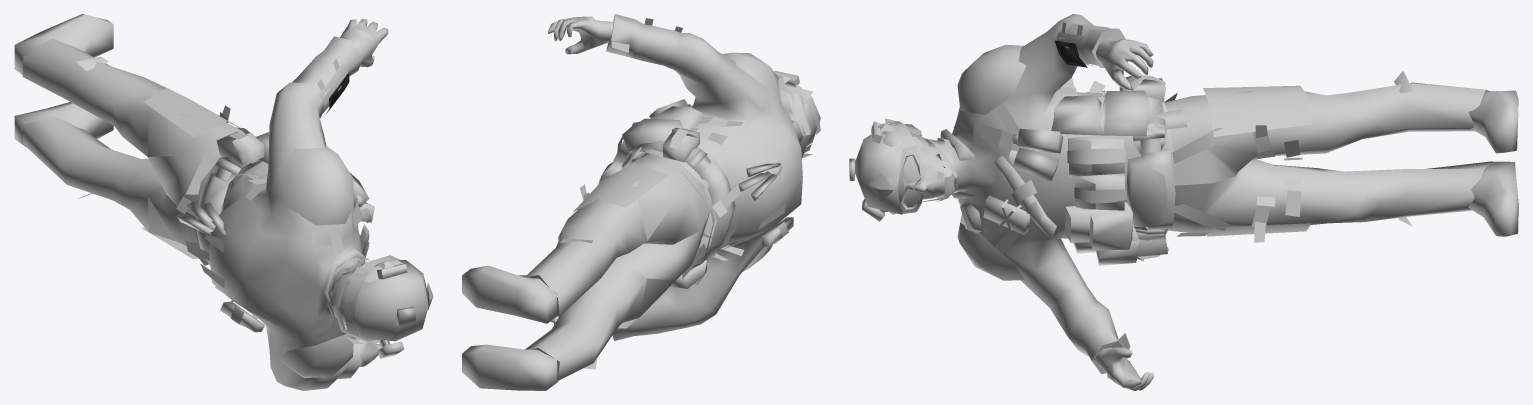
File: c_mul_mp_pmc_lmg_fb_LOD2.obj
The picture shows the model from 3 angles, left to right: view 1: azimuth 30°, elevation 25°; view 2: azimuth 150°, elevation 25°; view 3: azimuth 270°, elevation 25°; orthographic projection. The views are drawn at different scales.
Parts seen in each view (by area): view 1: mtl_c_mul_mp_pmc_upperbody1, mtl_c_mul_mp_pmc_lbr_2_1, mtl_c_mul_mp_pmc_gear_main_1, mtl_c_mul_mp_pmc_lmg_gear, mtl_c_mul_mp_pmc_helmet1, mtl_c_mul_mp_pmc_gloves3; view 2: mtl_c_mul_mp_pmc_upperbody1, mtl_c_mul_mp_pmc_lbr_2_1, mtl_c_mul_mp_pmc_gear_main_1, mtl_c_mul_mp_pmc_lmg_gear, mtl_c_mul_mp_pmc_helmet1, mtl_c_mul_mp_pmc_gloves3; view 3: mtl_c_mul_mp_pmc_lbr_2_1, mtl_c_mul_mp_pmc_gear_main_1, mtl_c_mul_mp_pmc_upperbody1, mtl_c_mul_mp_pmc_lmg_gear, mtl_c_mul_mp_pmc_helmet1, mtl_c_mul_mp_pmc_gloves3, mtl_c_mul_mp_pmc_head_1, mtl_c_mul_mp_pmc_glasses.
Boxes of the visible parts, box(x1,y1,x2,y2) form: mtl_c_mul_mp_pmc_upperbody1: box(176, 36, 365, 390); mtl_c_mul_mp_pmc_lbr_2_1: box(22, 38, 262, 265); mtl_c_mul_mp_pmc_gear_main_1: box(14, 14, 374, 332); mtl_c_mul_mp_pmc_lmg_gear: box(215, 132, 354, 377); mtl_c_mul_mp_pmc_helmet1: box(330, 255, 433, 358); mtl_c_mul_mp_pmc_gloves3: box(340, 18, 388, 366); mtl_c_mul_mp_pmc_upperbody1: box(606, 14, 802, 340); mtl_c_mul_mp_pmc_lbr_2_1: box(525, 154, 710, 380); mtl_c_mul_mp_pmc_gear_main_1: box(462, 99, 793, 390); mtl_c_mul_mp_pmc_lmg_gear: box(598, 52, 779, 288); mtl_c_mul_mp_pmc_helmet1: box(774, 71, 820, 158); mtl_c_mul_mp_pmc_gloves3: box(548, 16, 613, 324); mtl_c_mul_mp_pmc_lbr_2_1: box(1134, 71, 1492, 242); mtl_c_mul_mp_pmc_gear_main_1: box(940, 85, 1518, 265); mtl_c_mul_mp_pmc_upperbody1: box(937, 14, 1174, 374); mtl_c_mul_mp_pmc_lmg_gear: box(957, 44, 1175, 280); mtl_c_mul_mp_pmc_helmet1: box(849, 118, 957, 221); mtl_c_mul_mp_pmc_gloves3: box(1095, 37, 1153, 390); mtl_c_mul_mp_pmc_head_1: box(903, 133, 956, 199); mtl_c_mul_mp_pmc_glasses: box(903, 155, 920, 207).
Bounding box in the file's own units: 70.13 × 105 × 186.
